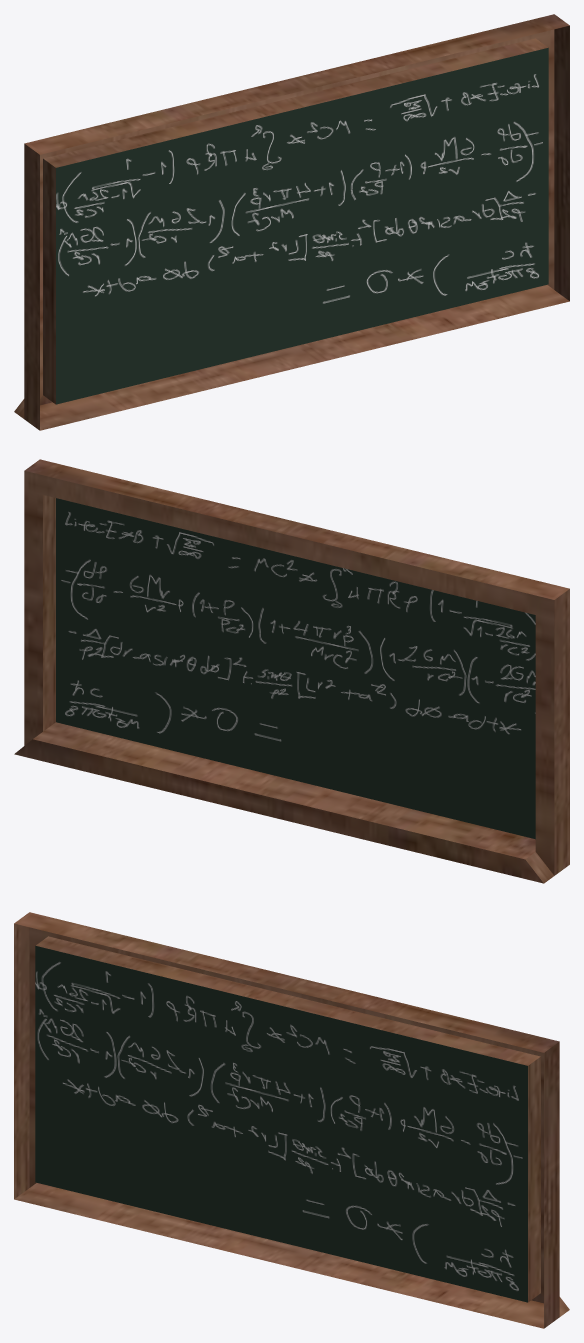
File: ClackBoard.fbx
3 views of the same model, one above another, from view 1: azimuth 30°, elevation 25°; view 2: azimuth 150°, elevation 25°; view 3: azimuth 330°, elevation 25° (orthographic).
Visible parts, largest first — view 1: Cube; view 2: Cube; view 3: Cube.
Boxes of the visible parts, bbox=[...] form: Cube: bbox=[14, 14, 569, 430]; Cube: bbox=[14, 459, 569, 883]; Cube: bbox=[14, 912, 569, 1328].
Size of the model in its own units: 599 by 298 by 50.78.
